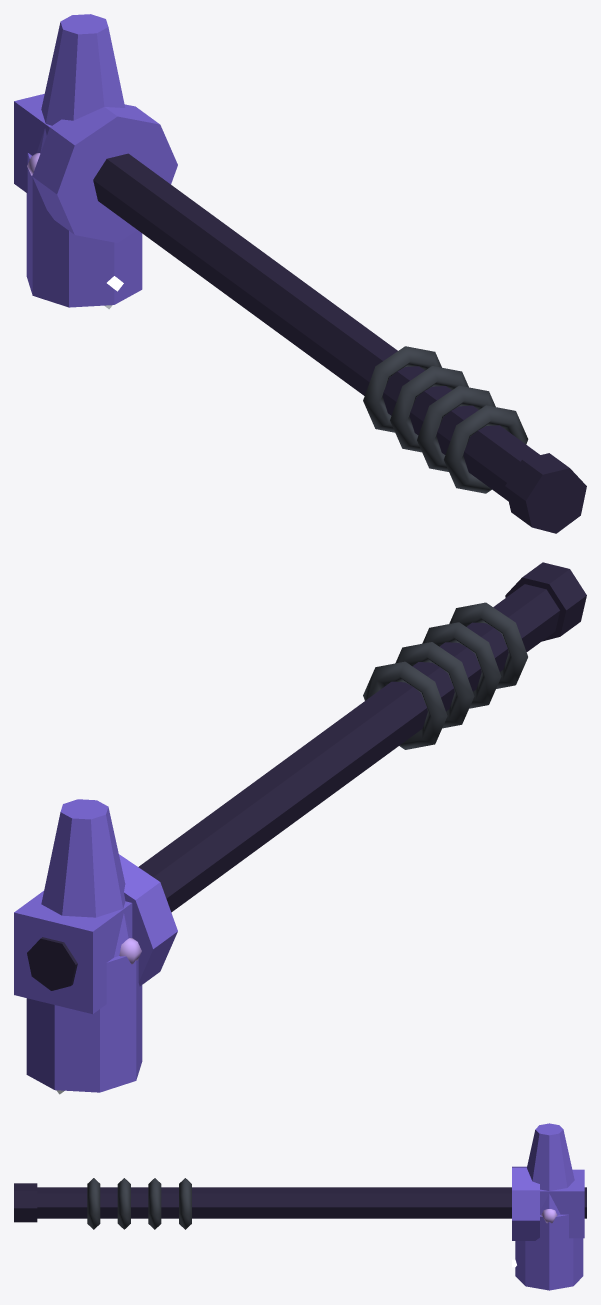
File: Tool_Hammer_Starlight.fbx
The picture shows the model from 3 angles, top to bottom: view 1: azimuth 30°, elevation 25°; view 2: azimuth 150°, elevation 25°; view 3: azimuth 270°, elevation 25°; orthographic projection. The views are drawn at different scales.
Visible parts, largest first — view 1: Tool_Hammer_Starlight; view 2: Tool_Hammer_Starlight; view 3: Tool_Hammer_Starlight.
Boxes of the visible parts, <box> form: Tool_Hammer_Starlight: <box>14,14,586,533</box>; Tool_Hammer_Starlight: <box>14,562,586,1094</box>; Tool_Hammer_Starlight: <box>14,1123,586,1290</box>.
Bounding box in the file's own units: 3.38 × 7.12 × 24.4.
